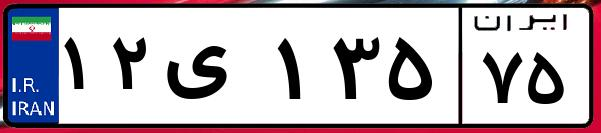1: (270, 28, 330, 110), (57, 26, 110, 100)
2: (110, 28, 158, 98)
3: (330, 28, 385, 110)
5: (385, 28, 445, 110), (525, 38, 570, 115)
7: (475, 38, 525, 113)
ی: (158, 20, 270, 120)
